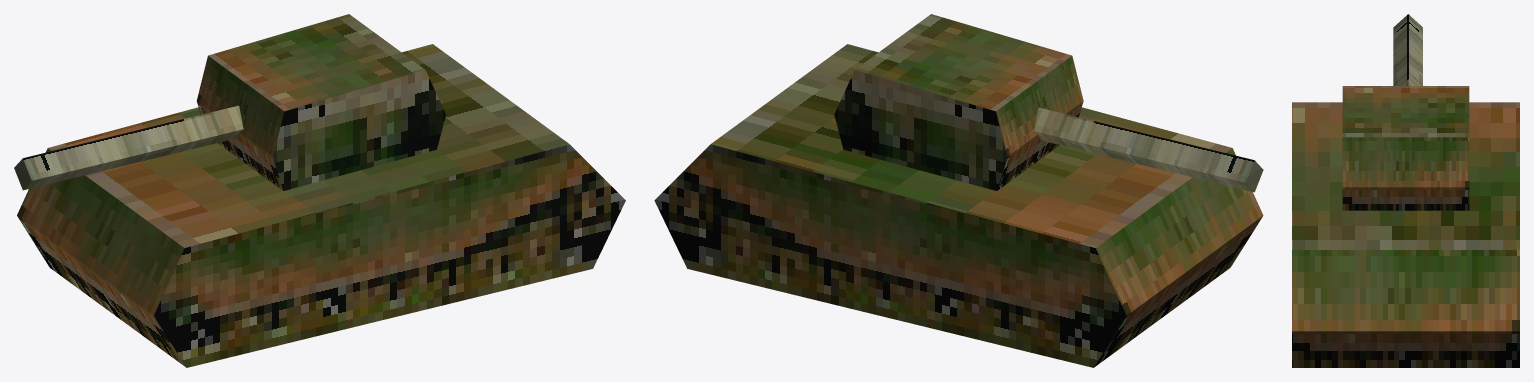
The model's file is env_tank_large.glb.
The picture shows the model from 3 angles, left to right: view 1: azimuth 30°, elevation 25°; view 2: azimuth 150°, elevation 25°; view 3: azimuth 270°, elevation 25°; orthographic projection. The views are drawn at different scales.
Visible parts, largest first — view 1: env_tank_large; view 2: env_tank_large; view 3: env_tank_large.
Part boxes in pixels (box(x1,y1,x2,y2)): env_tank_large: box(14, 14, 625, 367); env_tank_large: box(654, 14, 1263, 367); env_tank_large: box(1292, 14, 1519, 367).
Bounding box in the file's own units: 0.00294 × 0.00111 × 0.00131.
1 material, 1 textured.
